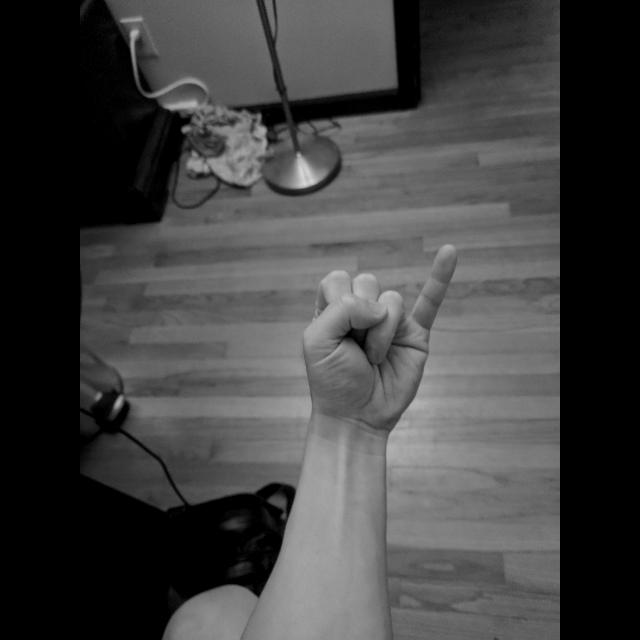I: (296, 241, 462, 439)
